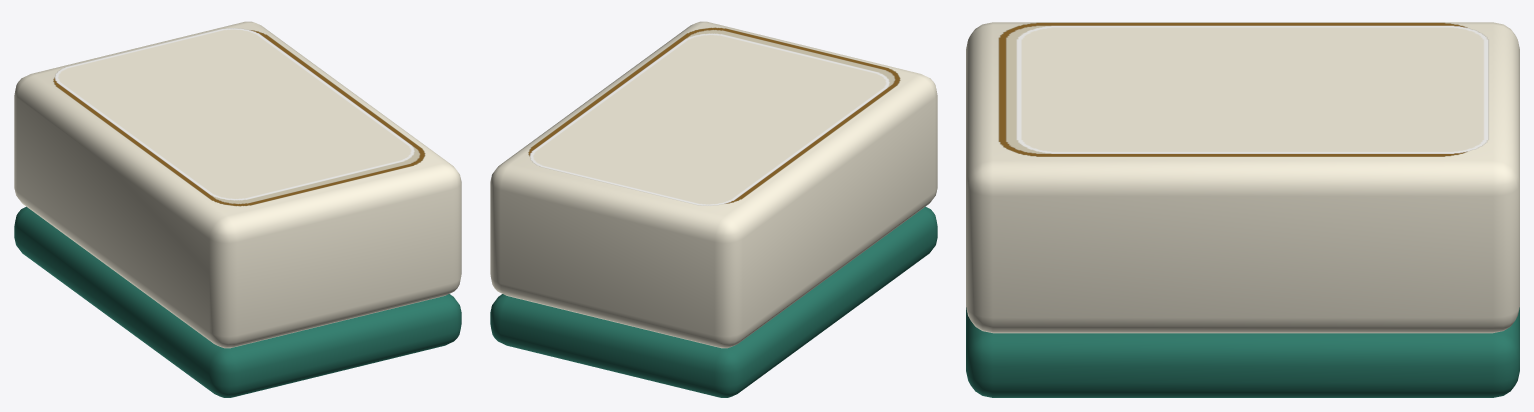
File: mahjong_tile.glb
3 views of the same model, side by side, from view 1: azimuth 30°, elevation 25°; view 2: azimuth 150°, elevation 25°; view 3: azimuth 270°, elevation 25° (orthographic). The views are drawn at different scales.
Parts seen in each view (by area): view 1: TileBody, TileFace, TileBack; view 2: TileBody, TileFace, TileBack; view 3: TileBody, TileFace, TileBack.
Part boxes in pixels (<box>): TileBody: <box>14,21,461,348</box>; TileFace: <box>53,28,425,206</box>; TileBack: <box>14,206,461,397</box>; TileBody: <box>490,21,937,348</box>; TileFace: <box>528,27,900,205</box>; TileBack: <box>490,206,937,397</box>; TileBody: <box>966,22,1519,333</box>; TileFace: <box>998,22,1488,156</box>; TileBack: <box>966,307,1519,397</box>.
Bounding box in the file's own units: 0.042 × 0.0294 × 0.062.
Materials: 3 (1 with a texture image).
